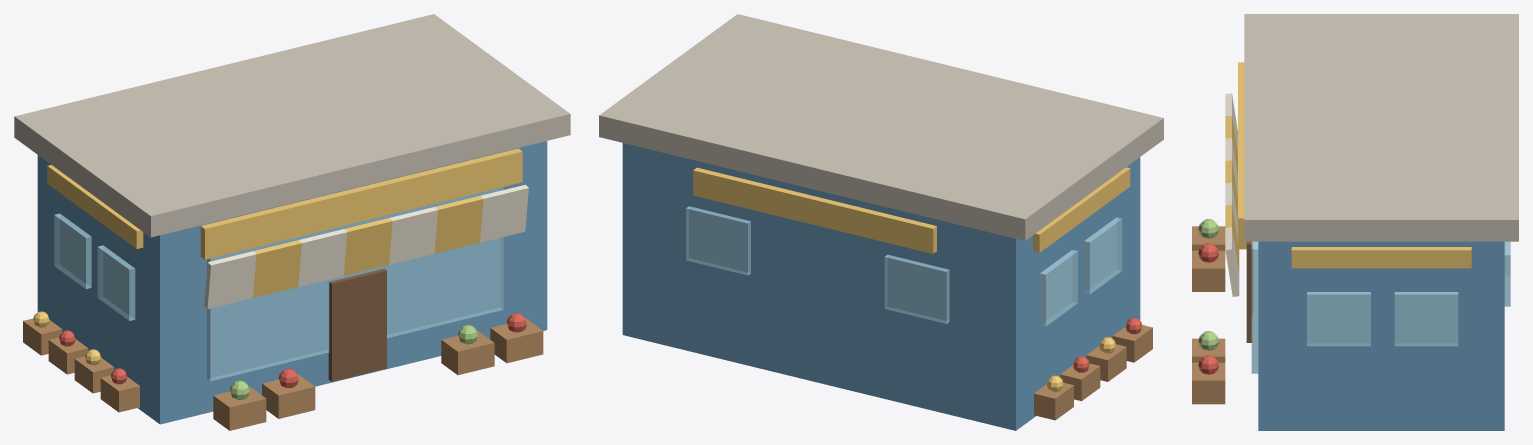
File: supermarket-store-Dmcsy7rV.glb
The picture shows the model from 3 angles, left to right: view 1: azimuth 30°, elevation 25°; view 2: azimuth 150°, elevation 25°; view 3: azimuth 270°, elevation 25°; orthographic projection.
Visible parts, largest first — view 1: Supermarket_Flat_Roof, Supermarket_Main, Supermarket_Glass_Front, Supermarket_Sign, Supermarket_Door, Supermarket_Awning_stripe_0, Supermarket_Side_Window_-4.84_A, Supermarket_Awning_stripe_6, Supermarket_Awning_stripe_1, Supermarket_Awning_stripe_2, Supermarket_Awning_stripe_4, Supermarket_Awning_stripe_5 (+11 smaller); view 2: Supermarket_Main, Supermarket_Flat_Roof, Supermarket_Back_Sign, Supermarket_Back_Window_A, Supermarket_Back_Window_B, Supermarket_Side_Window_-4.84_A, Supermarket_Side_Trim_-4.84, Supermarket_Side_Window_-4.84_B, Supermarket_Side_Crate_3, Supermarket_Side_Crate_2, Supermarket_Side_Crate_1, Supermarket_Side_Crate_0; view 3: Supermarket_Flat_Roof, Supermarket_Main, Supermarket_Side_Trim_4.84, Supermarket_Side_Window_4.84_B, Supermarket_Side_Window_4.84_A, Supermarket_Sign, Supermarket_Crate_3, Supermarket_Crate_1, Supermarket_Glass_Front, Supermarket_Door, Supermarket_Awning_stripe_6, Supermarket_Crate_0 (+12 smaller).
Part boxes in pixels (box(x1,y1,x2,y2)): Supermarket_Flat_Roof: box(14, 14, 570, 237); Supermarket_Main: box(37, 141, 547, 424); Supermarket_Glass_Front: box(207, 187, 503, 381); Supermarket_Sign: box(200, 148, 522, 259); Supermarket_Door: box(328, 268, 386, 381); Supermarket_Awning_stripe_0: box(204, 251, 256, 309); Supermarket_Side_Window_-4.84_A: box(97, 245, 135, 320); Supermarket_Awning_stripe_6: box(480, 184, 528, 242); Supermarket_Awning_stripe_1: box(253, 240, 301, 297); Supermarket_Awning_stripe_2: box(298, 229, 347, 286); Supermarket_Awning_stripe_4: box(389, 207, 437, 264); Supermarket_Awning_stripe_5: box(434, 196, 483, 253); Supermarket_Main: box(622, 143, 1140, 430); Supermarket_Flat_Roof: box(599, 14, 1163, 240); Supermarket_Back_Sign: box(693, 167, 936, 253); Supermarket_Back_Window_A: box(884, 254, 949, 323); Supermarket_Back_Window_B: box(686, 206, 750, 275); Supermarket_Side_Window_-4.84_A: box(1084, 217, 1122, 294); Supermarket_Side_Trim_-4.84: box(1033, 167, 1130, 252); Supermarket_Side_Window_-4.84_B: box(1040, 250, 1077, 326); Supermarket_Side_Crate_3: box(1034, 382, 1073, 420); Supermarket_Side_Crate_2: box(1060, 363, 1100, 401); Supermarket_Side_Crate_1: box(1086, 344, 1126, 381); Supermarket_Side_Crate_0: box(1112, 325, 1152, 362); Supermarket_Flat_Roof: box(1244, 14, 1518, 241); Supermarket_Main: box(1258, 241, 1504, 430); Supermarket_Side_Trim_4.84: box(1291, 247, 1471, 268); Supermarket_Side_Window_4.84_B: box(1394, 292, 1458, 346); Supermarket_Side_Window_4.84_A: box(1307, 292, 1370, 346); Supermarket_Sign: box(1238, 62, 1246, 249); Supermarket_Crate_3: box(1192, 362, 1225, 404); Supermarket_Crate_1: box(1192, 250, 1225, 291); Supermarket_Glass_Front: box(1251, 241, 1258, 373); Supermarket_Door: box(1246, 241, 1252, 342); Supermarket_Awning_stripe_6: box(1225, 227, 1239, 296); Supermarket_Crate_0: box(1192, 226, 1225, 250).
Size of the model in its own units: 10.56 by 5.1 by 6.9.
